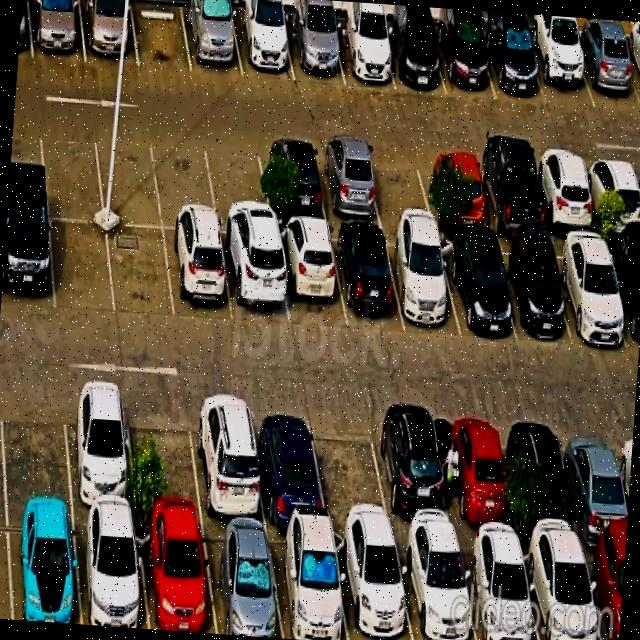empty: (310, 405, 392, 533), (125, 389, 202, 520), (0, 381, 71, 508), (93, 127, 162, 227), (203, 136, 272, 236), (152, 132, 218, 231), (107, 225, 174, 321), (39, 123, 104, 221), (50, 219, 114, 314), (364, 145, 433, 224), (130, 0, 191, 72)
occupied: (369, 409, 456, 537), (434, 411, 515, 542), (188, 394, 266, 524), (249, 399, 327, 526), (62, 383, 136, 514), (200, 522, 283, 638), (507, 414, 581, 543), (136, 518, 216, 633), (267, 527, 348, 640), (559, 418, 628, 545), (333, 531, 413, 640), (74, 512, 148, 629), (549, 238, 629, 345), (7, 509, 80, 624), (395, 538, 476, 640), (458, 539, 539, 640), (437, 237, 516, 340), (384, 231, 460, 336), (520, 542, 601, 640), (491, 239, 570, 339), (330, 227, 404, 329), (275, 224, 346, 328), (163, 229, 233, 322), (220, 235, 289, 326), (473, 152, 546, 236), (257, 140, 327, 222), (419, 149, 489, 230), (314, 142, 382, 223), (570, 33, 640, 111), (0, 211, 54, 311), (525, 31, 595, 108), (532, 154, 598, 233), (480, 24, 545, 104), (432, 22, 495, 98), (380, 23, 445, 94), (230, 8, 294, 80), (181, 3, 242, 77), (583, 156, 640, 235), (331, 19, 394, 89), (581, 544, 625, 640), (284, 15, 344, 83), (604, 240, 640, 351), (79, 0, 138, 66), (28, 0, 85, 62), (620, 38, 640, 99)
